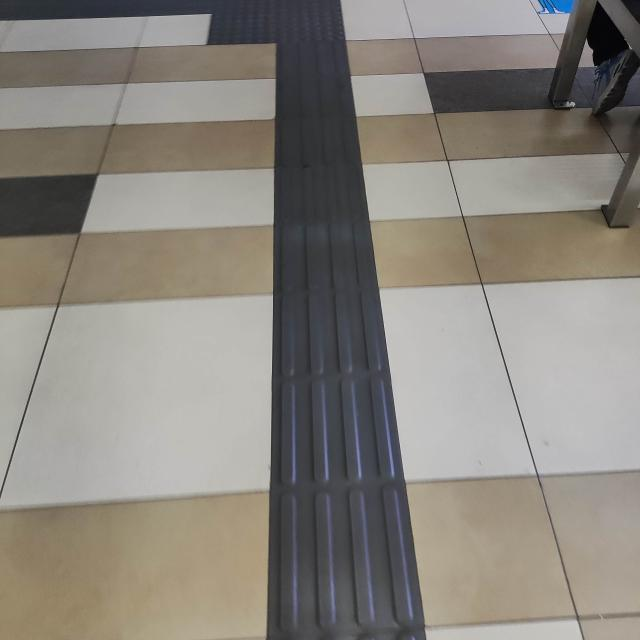lurus: (262, 37, 429, 640)
